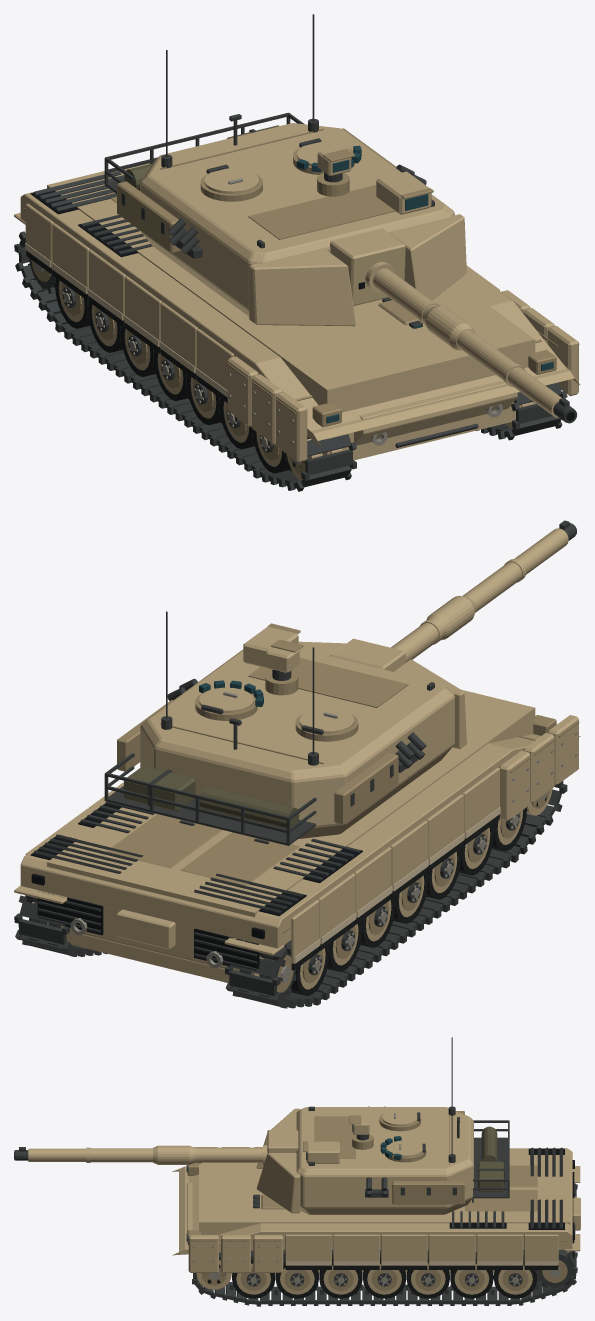
The model's file is iron_dust_02.glb.
3 renders of one model, top to bottom at view 1: azimuth 30°, elevation 25°; view 2: azimuth 150°, elevation 25°; view 3: azimuth 270°, elevation 25°, orthographic. The views are drawn at different scales.
Parts seen in each view (by area): view 1: COL_Hull, TurretMesh, SideSkirts_Details, TurretArmor_Details, Hull, Left_TrackBelt, ThermalSleeve, TurretMesh_Details, Optics_Details, GunMantlet, Hatches_Details, ArmorPanels_Details (+9 smaller); view 2: TurretMesh, SideSkirts_Details, Hull, COL_Hull, TurretArmor_Details, EngineDeck_Details, Left_TrackBelt, Exhausts_Details, ThermalSleeve, Hatches_Details, ArmorPanels_Details, TurretMesh_Details (+10 smaller); view 3: SideSkirts_Details, TurretMesh, COL_Hull, TurretArmor_Details, Hull, Right_TrackBelt, ThermalSleeve, EngineDeck_Details, Hatches_Details, Optics_Details, Exhausts_Details, TurretMesh_Details (+17 smaller).
Boxes of the visible parts, x1,y1,x2,y2 form: COL_Hull: [47, 163, 535, 460]; TurretMesh: [140, 123, 454, 316]; SideSkirts_Details: [25, 203, 579, 462]; TurretArmor_Details: [104, 112, 466, 326]; Hull: [20, 192, 580, 448]; Left_TrackBelt: [14, 231, 356, 491]; ThermalSleeve: [365, 262, 562, 417]; TurretMesh_Details: [160, 128, 395, 239]; Optics_Details: [229, 114, 433, 214]; GunMantlet: [330, 228, 405, 305]; Hatches_Details: [200, 138, 361, 201]; ArmorPanels_Details: [14, 208, 557, 447]; TurretMesh: [140, 649, 454, 838]; SideSkirts_Details: [25, 715, 579, 970]; Hull: [20, 734, 580, 969]; COL_Hull: [47, 689, 535, 982]; TurretArmor_Details: [104, 641, 466, 845]; EngineDeck_Details: [30, 801, 362, 916]; Left_TrackBelt: [225, 781, 567, 1008]; Exhausts_Details: [34, 834, 303, 970]; ThermalSleeve: [391, 528, 568, 662]; Hatches_Details: [195, 680, 358, 741]; ArmorPanels_Details: [14, 715, 556, 968]; TurretMesh_Details: [160, 658, 408, 763]; SideSkirts_Details: [188, 1147, 558, 1272]; TurretMesh: [296, 1107, 473, 1214]; COL_Hull: [199, 1155, 570, 1273]; TurretArmor_Details: [256, 1106, 509, 1213]; Hull: [172, 1148, 572, 1255]; Right_TrackBelt: [192, 1250, 577, 1306]; ThermalSleeve: [28, 1145, 267, 1165]; EngineDeck_Details: [449, 1148, 564, 1229]; Hatches_Details: [379, 1109, 426, 1162]; Optics_Details: [303, 1115, 459, 1163]; Exhausts_Details: [530, 1147, 575, 1259]; TurretMesh_Details: [314, 1114, 449, 1164].
Bounding box in the file's own units: 4.19 × 4.32 × 10.91.
